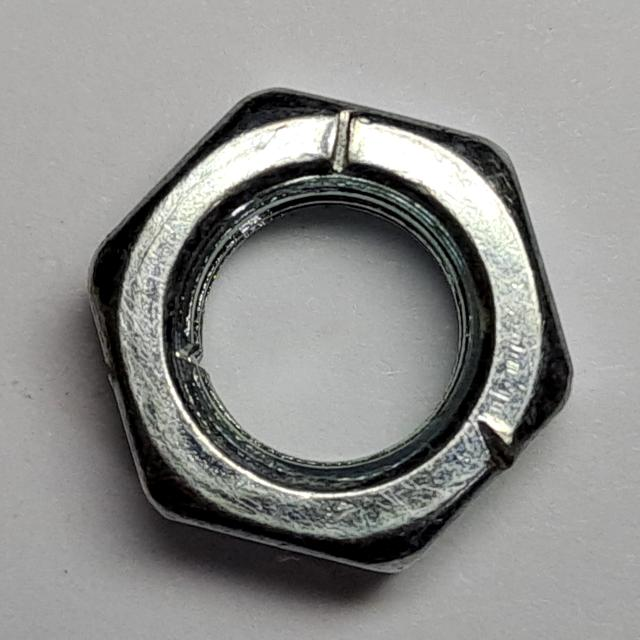Scratches: (77, 79, 595, 589)
